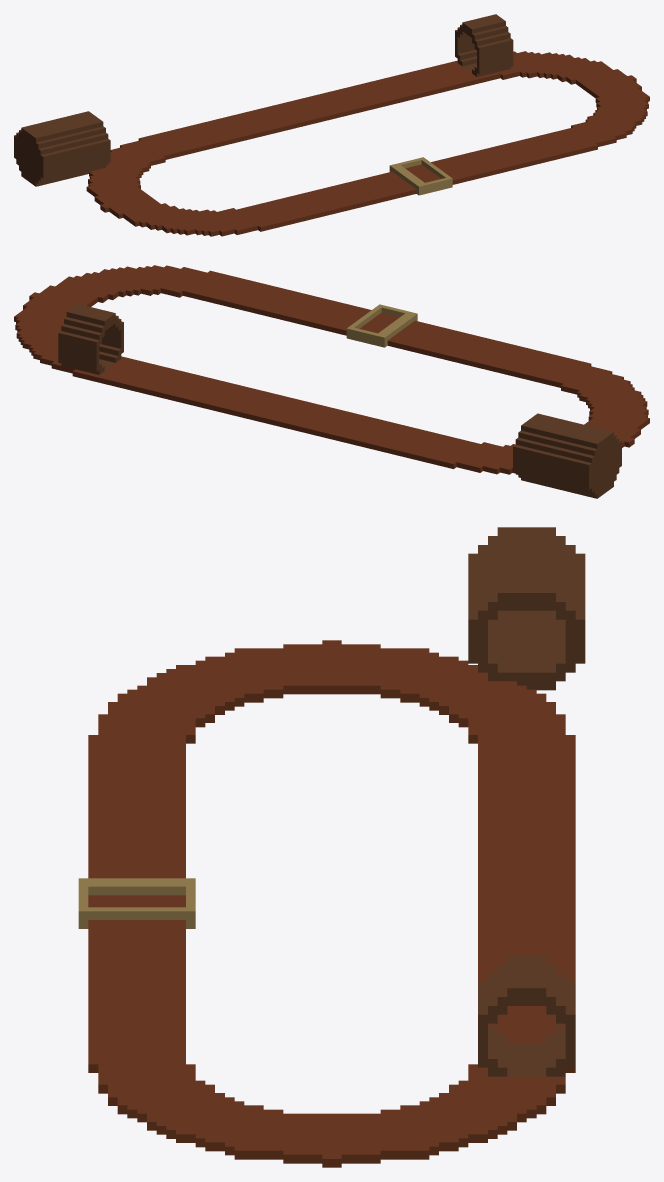
The model's file is spearsling.glb.
The picture shows the model from 3 angles, top to bottom: view 1: azimuth 30°, elevation 25°; view 2: azimuth 150°, elevation 25°; view 3: azimuth 270°, elevation 25°; orthographic projection. The views are drawn at different scales.
Parts seen in each view (by area): view 1: spearsling:compound; view 2: spearsling:compound; view 3: spearsling:compound.
Part boxes in pixels (bbox=[...]): spearsling:compound: bbox=[14, 14, 649, 236]; spearsling:compound: bbox=[14, 265, 649, 498]; spearsling:compound: bbox=[78, 527, 585, 1167].
Size of the model in its own units: 0.528 by 0.044 by 0.208.
